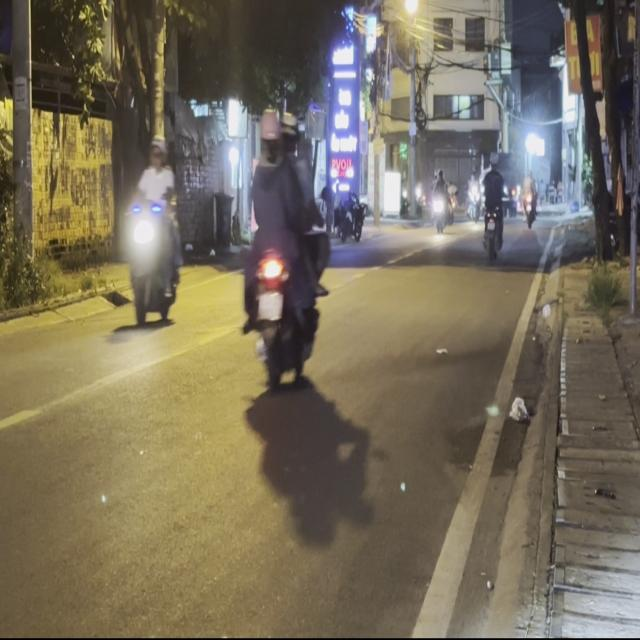helmet: (257, 108, 281, 156), (278, 110, 298, 153), (148, 133, 165, 166)
licenseplate: (237, 105, 327, 387), (122, 132, 186, 328)
nohelmet: (258, 293, 283, 320)
